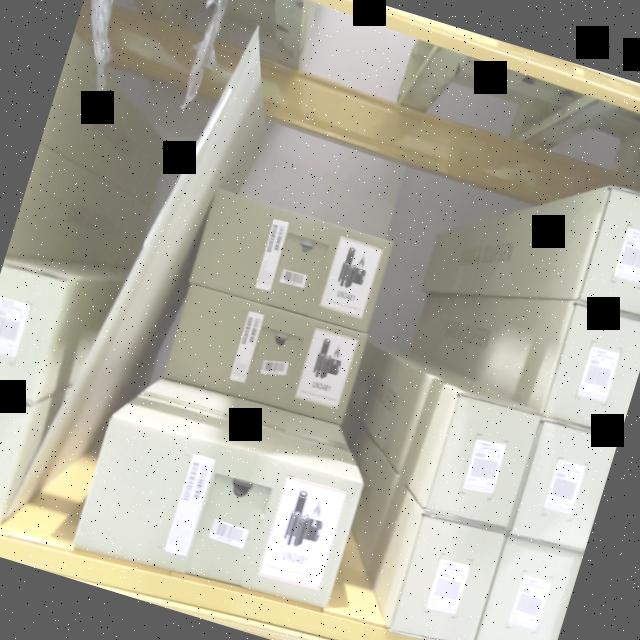box: (73, 412, 362, 616), (186, 185, 395, 341), (160, 280, 367, 429), (421, 393, 544, 537), (508, 416, 618, 558), (389, 508, 506, 640), (542, 301, 640, 438), (474, 535, 581, 640), (577, 186, 640, 324)
